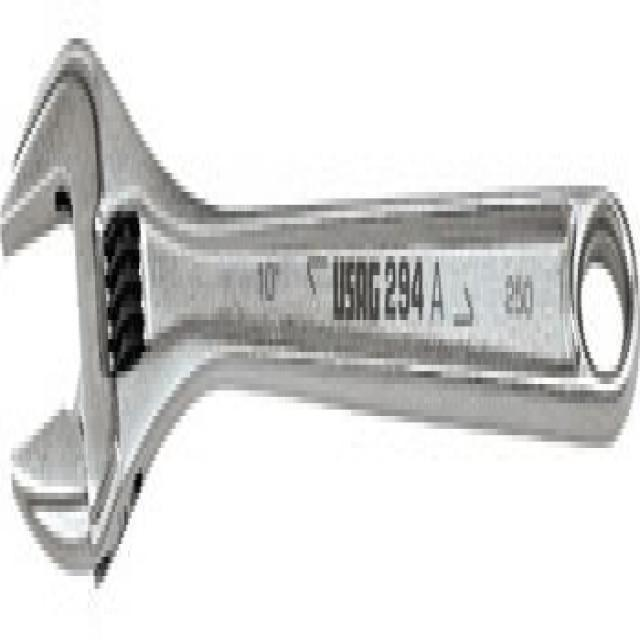wrench: (0, 0, 638, 595)
